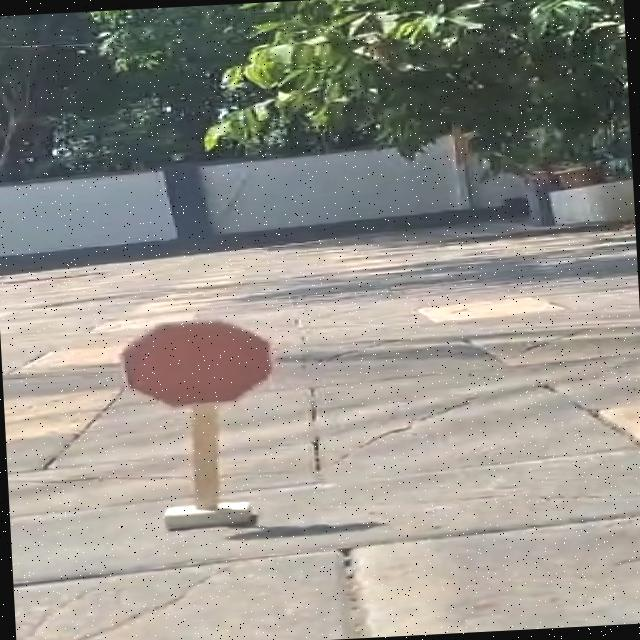Stop: (100, 306, 304, 424)
